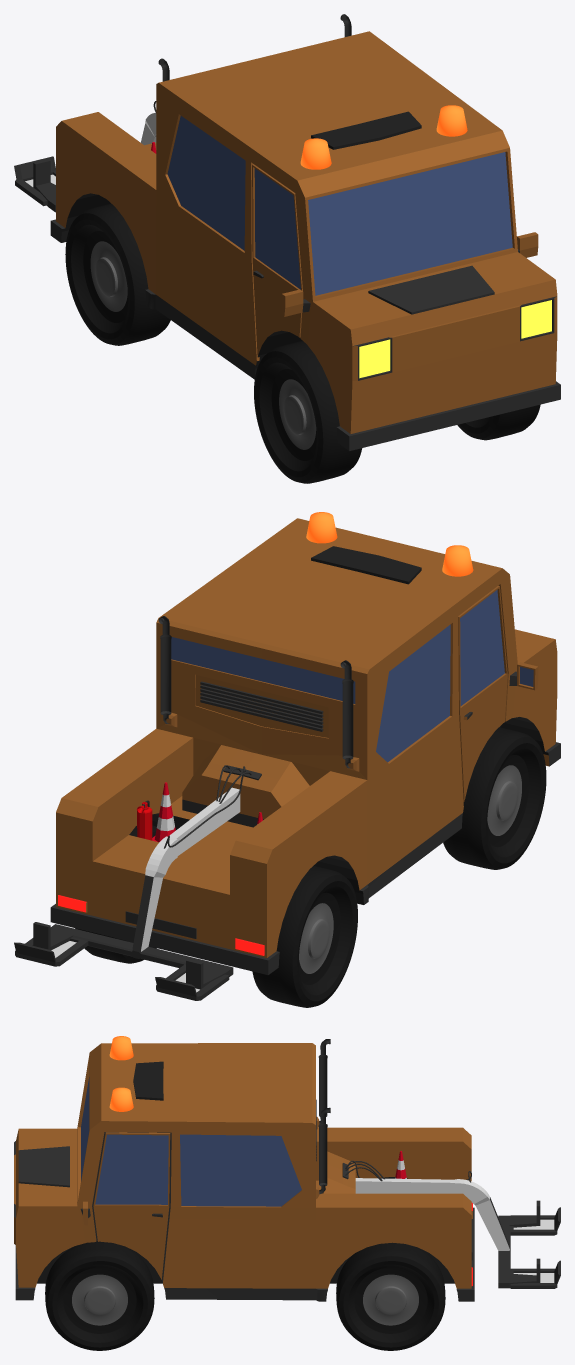
3 renders of one model, top to bottom at view 1: azimuth 30°, elevation 25°; view 2: azimuth 150°, elevation 25°; view 3: azimuth 270°, elevation 25°, orthographic. The views are drawn at different scales.
Parts seen in each view (by area): view 1: Breakdown_Truck_Body_0, Breakdown_Truck_RF_Tire_15, Breakdown_Truck_RB_Tire_14, Breakdown_Truck_LF_Tire_13, Breakdown_Truck_arm1_1, Breakdown_Truck_flashing_light_left_17, Breakdown_Truck_flashing_light_right_18, Breakdown_Truck_arm2_2; view 2: Breakdown_Truck_Body_0, Breakdown_Truck_RF_Tire_15, Breakdown_Truck_RB_Tire_14, Breakdown_Truck_arm1_1, Breakdown_Truck_arm2_2, Breakdown_Truck_flashing_light_right_18, Breakdown_Truck_flashing_light_left_17, Breakdown_Truck_boundary marker005.001_16, Breakdown_Truck_LB_Tire_12; view 3: Breakdown_Truck_Body_0, Breakdown_Truck_LF_Tire_13, Breakdown_Truck_LB_Tire_12, Breakdown_Truck_arm1_1, Breakdown_Truck_arm2_2, Breakdown_Truck_flashing_light_right_18, Breakdown_Truck_flashing_light_left_17.
Boxes of the visible parts, bbox=[...] form: Breakdown_Truck_Body_0: bbox=[50, 14, 560, 450]; Breakdown_Truck_RF_Tire_15: bbox=[254, 341, 362, 483]; Breakdown_Truck_RB_Tire_14: bbox=[65, 203, 170, 345]; Breakdown_Truck_LF_Tire_13: bbox=[457, 404, 540, 440]; Breakdown_Truck_arm1_1: bbox=[14, 112, 156, 206]; Breakdown_Truck_flashing_light_left_17: bbox=[436, 105, 467, 136]; Breakdown_Truck_flashing_light_right_18: bbox=[300, 138, 331, 169]; Breakdown_Truck_arm2_2: bbox=[33, 159, 55, 212]; Breakdown_Truck_Body_0: bbox=[50, 518, 560, 974]; Breakdown_Truck_RF_Tire_15: bbox=[443, 727, 546, 869]; Breakdown_Truck_RB_Tire_14: bbox=[252, 865, 357, 1007]; Breakdown_Truck_arm1_1: bbox=[14, 787, 240, 1000]; Breakdown_Truck_arm2_2: bbox=[33, 922, 233, 989]; Breakdown_Truck_flashing_light_right_18: bbox=[442, 545, 473, 576]; Breakdown_Truck_flashing_light_left_17: bbox=[306, 512, 337, 543]; Breakdown_Truck_boundary marker005.001_16: bbox=[152, 782, 175, 842]; Breakdown_Truck_LB_Tire_12: bbox=[75, 825, 156, 963]; Breakdown_Truck_Body_0: bbox=[14, 1039, 474, 1301]; Breakdown_Truck_LF_Tire_13: bbox=[45, 1241, 154, 1350]; Breakdown_Truck_LB_Tire_12: bbox=[336, 1242, 445, 1350]; Breakdown_Truck_arm1_1: bbox=[355, 1178, 560, 1288]; Breakdown_Truck_arm2_2: bbox=[498, 1200, 540, 1288]; Breakdown_Truck_flashing_light_right_18: bbox=[109, 1036, 133, 1060]; Breakdown_Truck_flashing_light_left_17: bbox=[109, 1087, 133, 1111].
Size of what is drawn, in the model's own units: 1.49 by 1.8 by 3.59.
